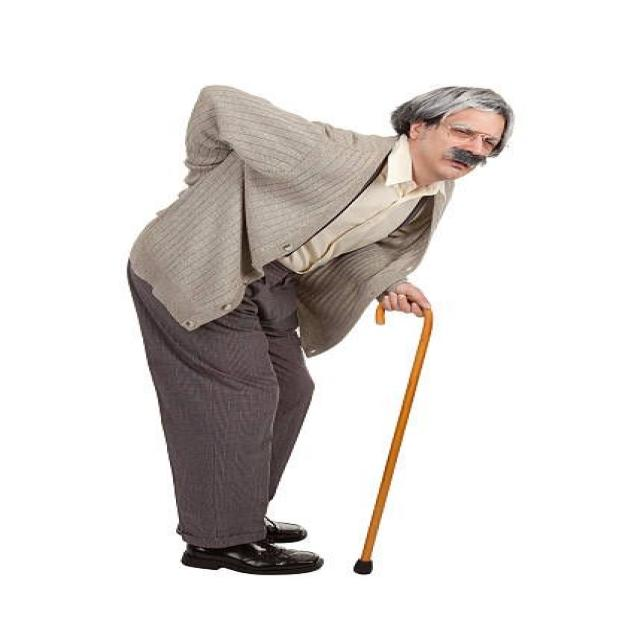idoso em pe: (115, 56, 512, 582)
